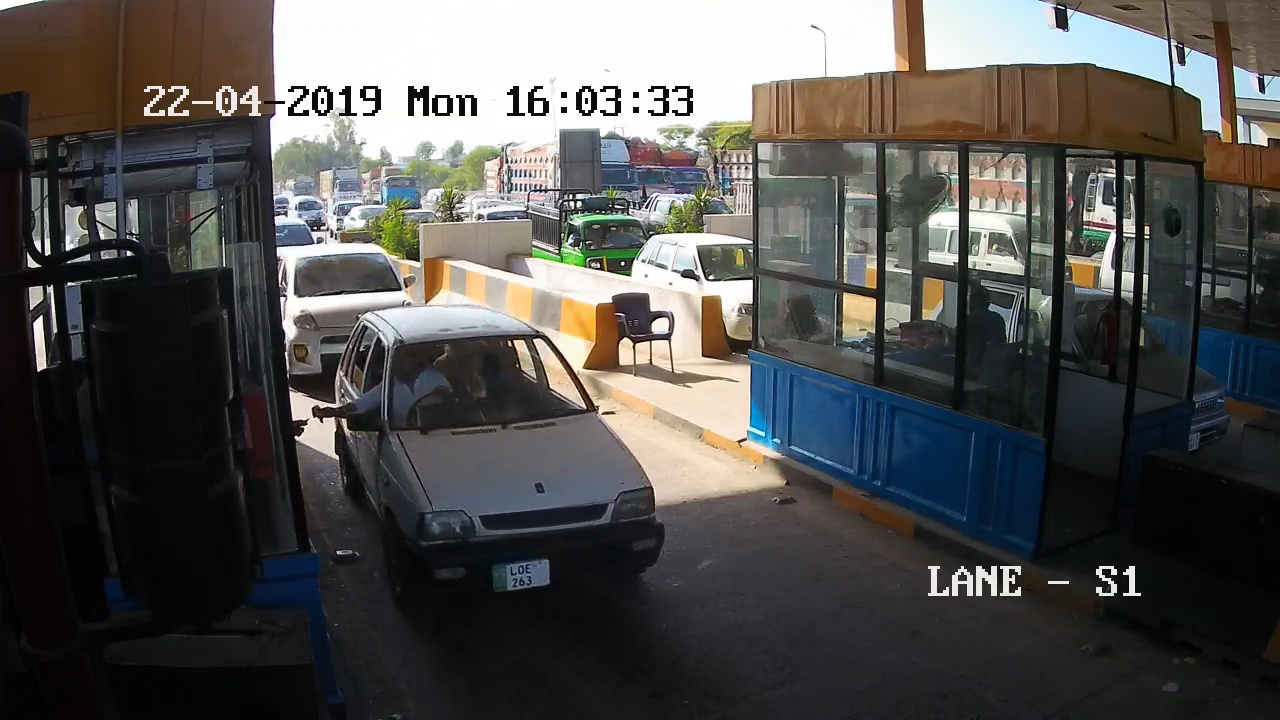Number Plate (Car): (490, 563, 553, 589)
